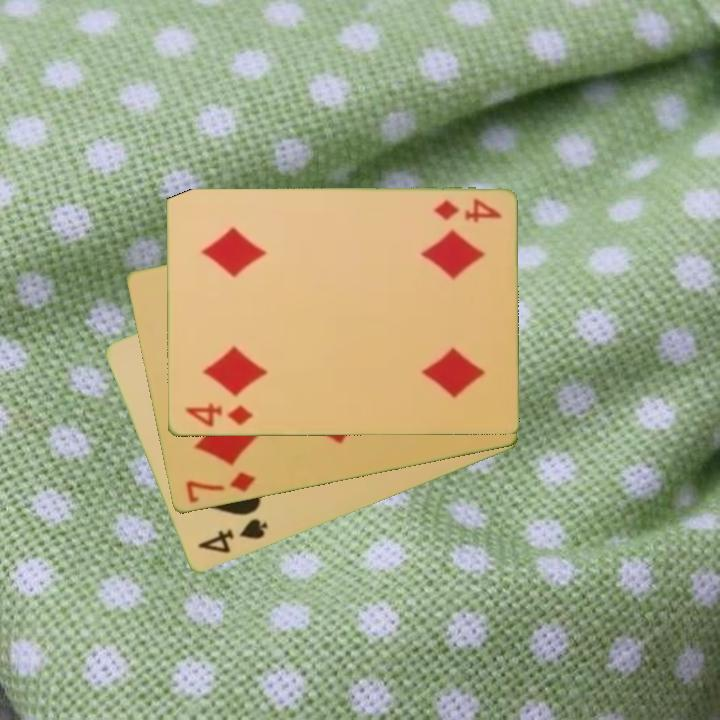4d: (430, 195, 505, 225), (182, 400, 255, 430)
4s: (194, 515, 271, 557)
7d: (182, 469, 258, 506)
